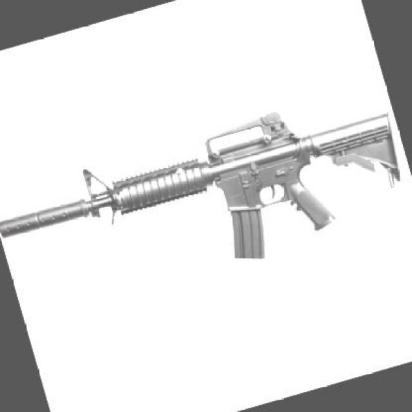Gun: (0, 73, 412, 340)
